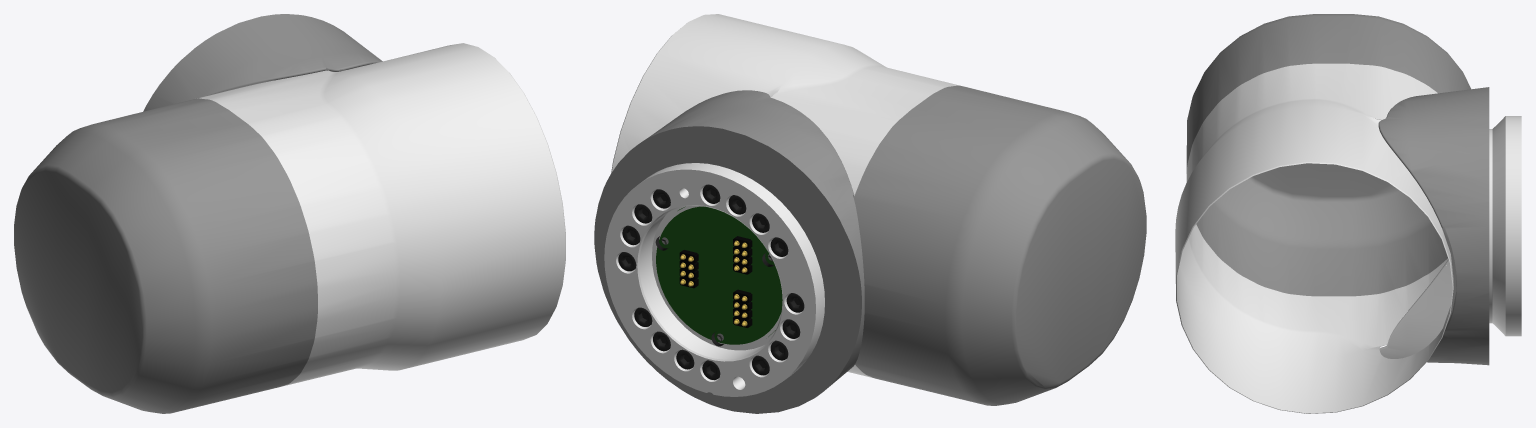
Rendered from D86-legacy-proximal.glb.
3 views of the same model, side by side, from view 1: azimuth 30°, elevation 25°; view 2: azimuth 150°, elevation 25°; view 3: azimuth 270°, elevation 25° (orthographic). The views are drawn at different scales.
Visible parts, largest first — view 1: D86-legacy-proximal.001; view 2: D86-legacy-proximal.001; view 3: D86-legacy-proximal.001.
Boxes of the visible parts, bbox=[...] form: D86-legacy-proximal.001: bbox=[14, 14, 565, 413]; D86-legacy-proximal.001: bbox=[594, 14, 1146, 413]; D86-legacy-proximal.001: bbox=[1175, 14, 1521, 413].
Size of the model in its own units: 0.1312 by 0.086 by 0.107.
